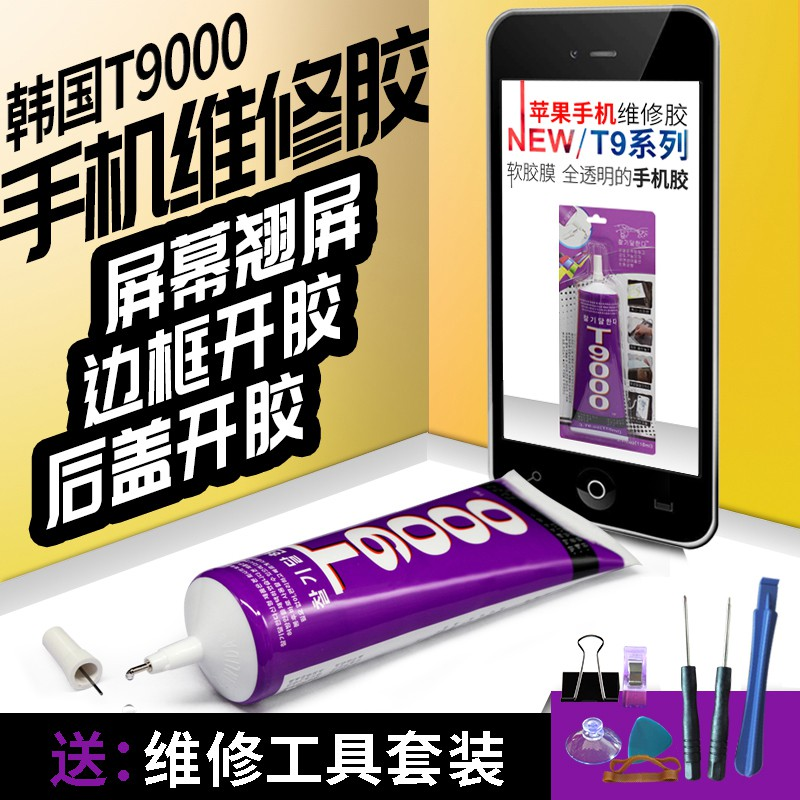Phone: (482, 6, 719, 554)
